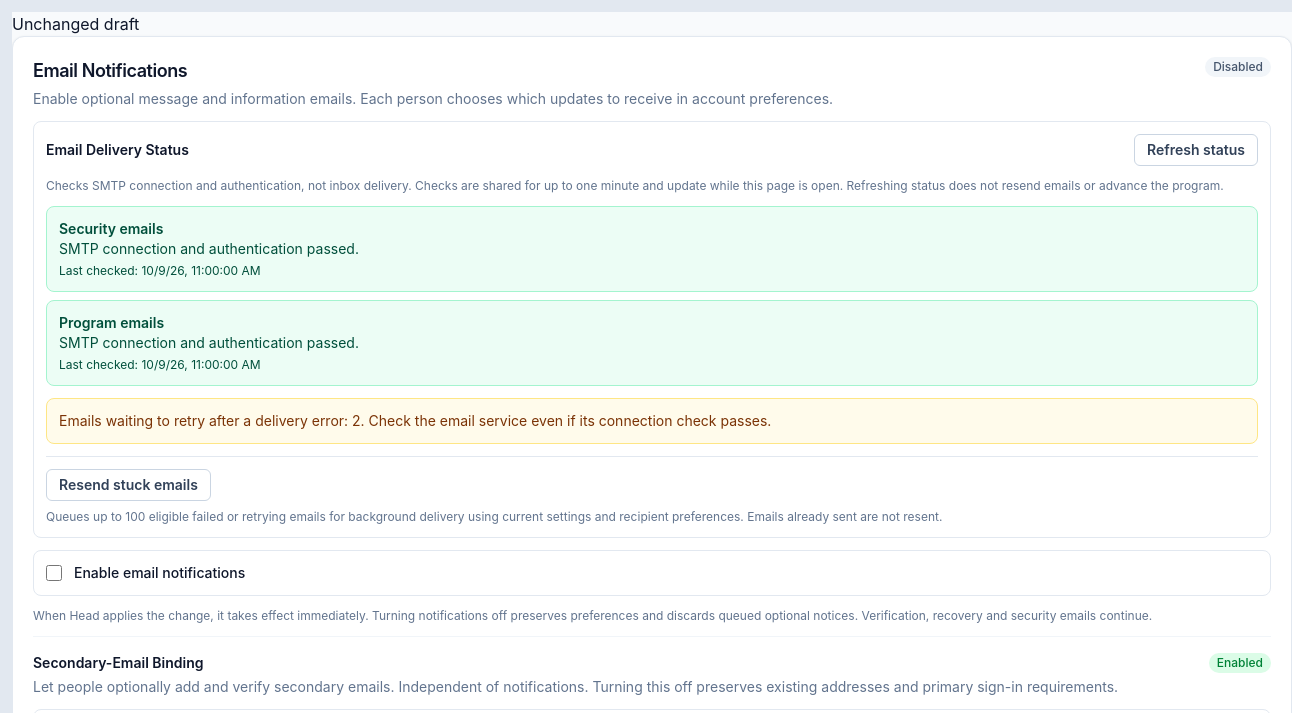
Scenario: reports zero eligible emails without claiming a send
Click the button "Resend stuck emails".
click(128, 485)  # box [46, 469, 211, 501]
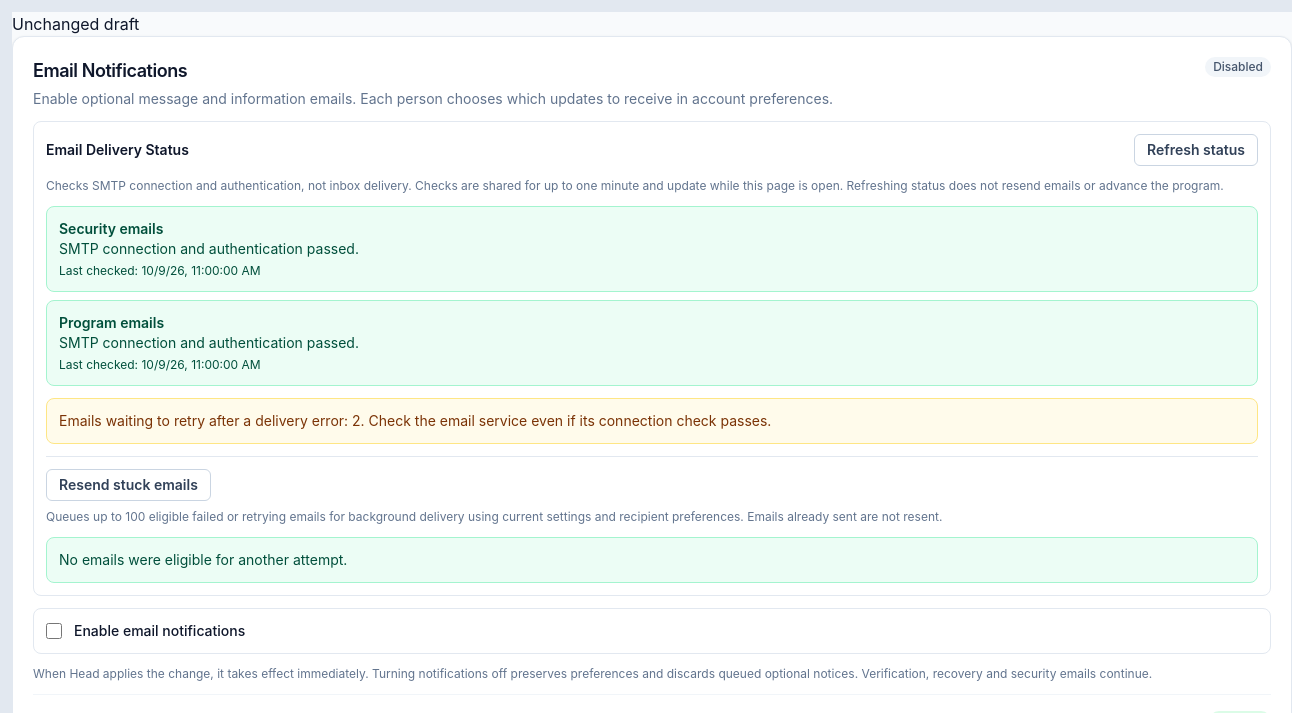
Now the text "No emails were eligible for another attempt." is shown, box [59, 551, 347, 568]
